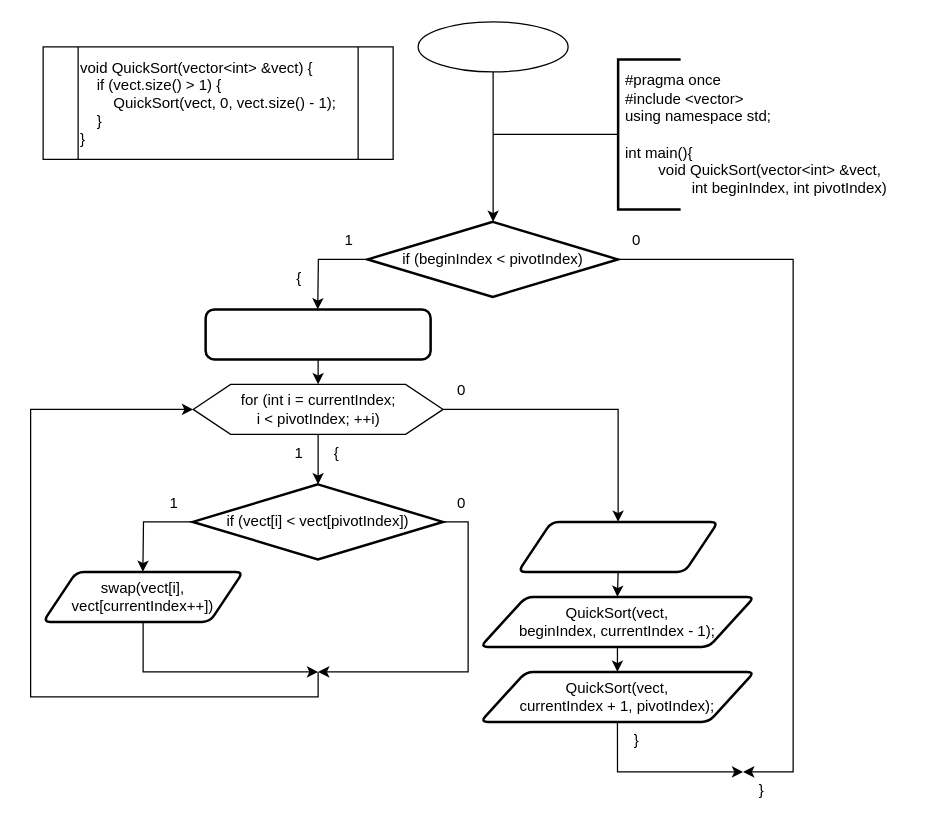
This 928x831 diagram has some shape labels left out. Here are the shapes that lost their labels. From the top down, the centre of each, then its label:
pixel 492 46: start
pixel 317 334: int currentIndex = beginIndex;
pixel 617 546: swap(vect[pivotIndex], vect[currentIndex]);
